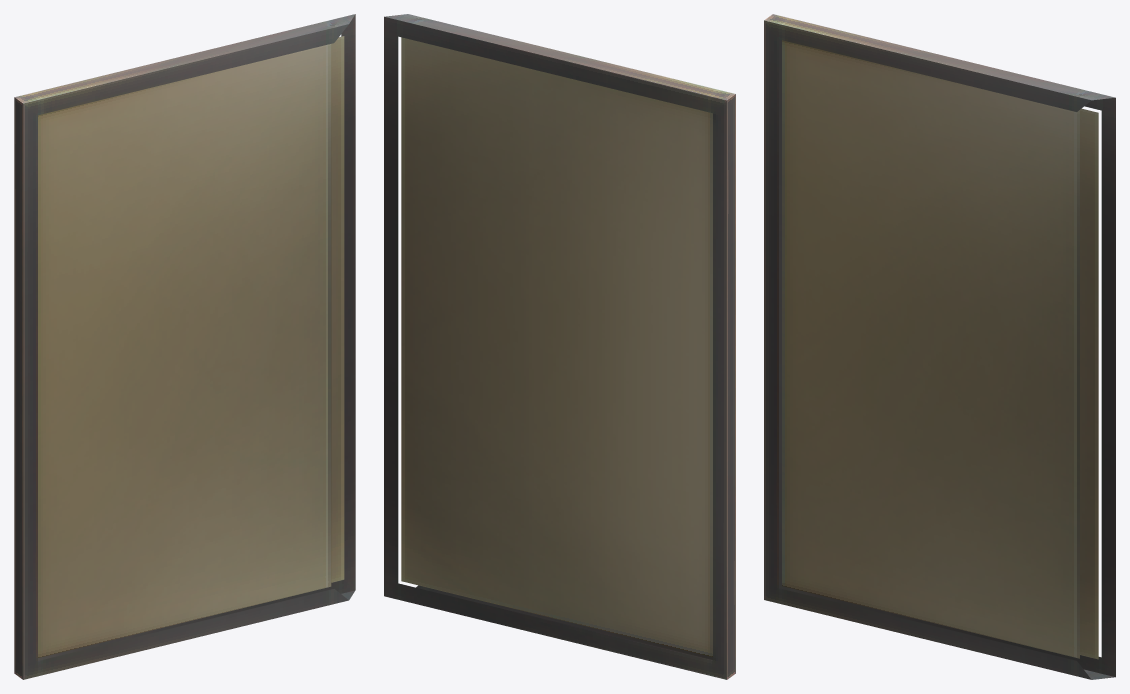
The model's file is cubicle_door.glb.
3 views of the same model, side by side, from view 1: azimuth 30°, elevation 25°; view 2: azimuth 150°, elevation 25°; view 3: azimuth 330°, elevation 25° (orthographic).
Parts seen in each view (by area): view 1: Cubicle.001; view 2: Cubicle.001; view 3: Cubicle.001.
Boxes of the visible parts, <box> form: Cubicle.001: <box>14,14,355,679</box>; Cubicle.001: <box>384,14,735,679</box>; Cubicle.001: <box>764,14,1115,679</box>.
Bounding box in the file's own units: 1.72 × 2.78 × 0.0763.
Materials: 1 (1 with a texture image).
